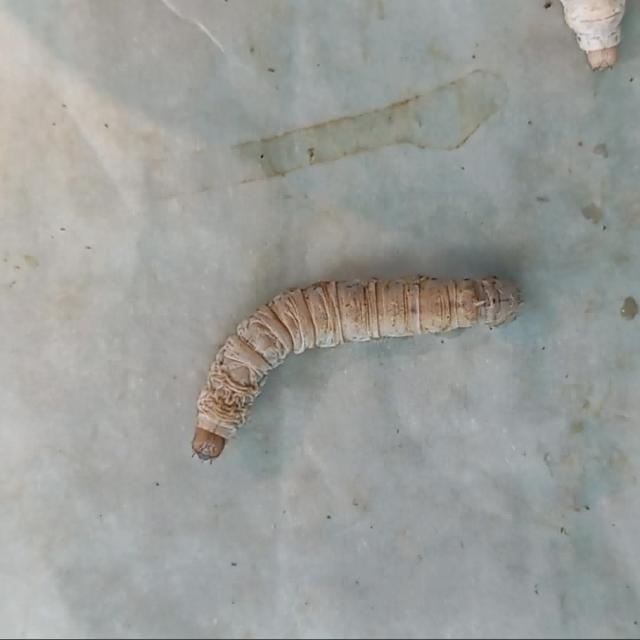Grasserie: (158, 245, 594, 503)
